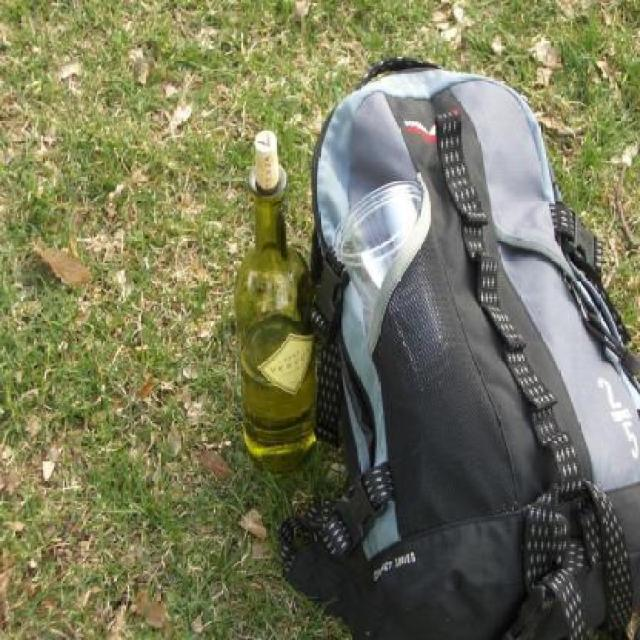backpack: (303, 41, 640, 640)
